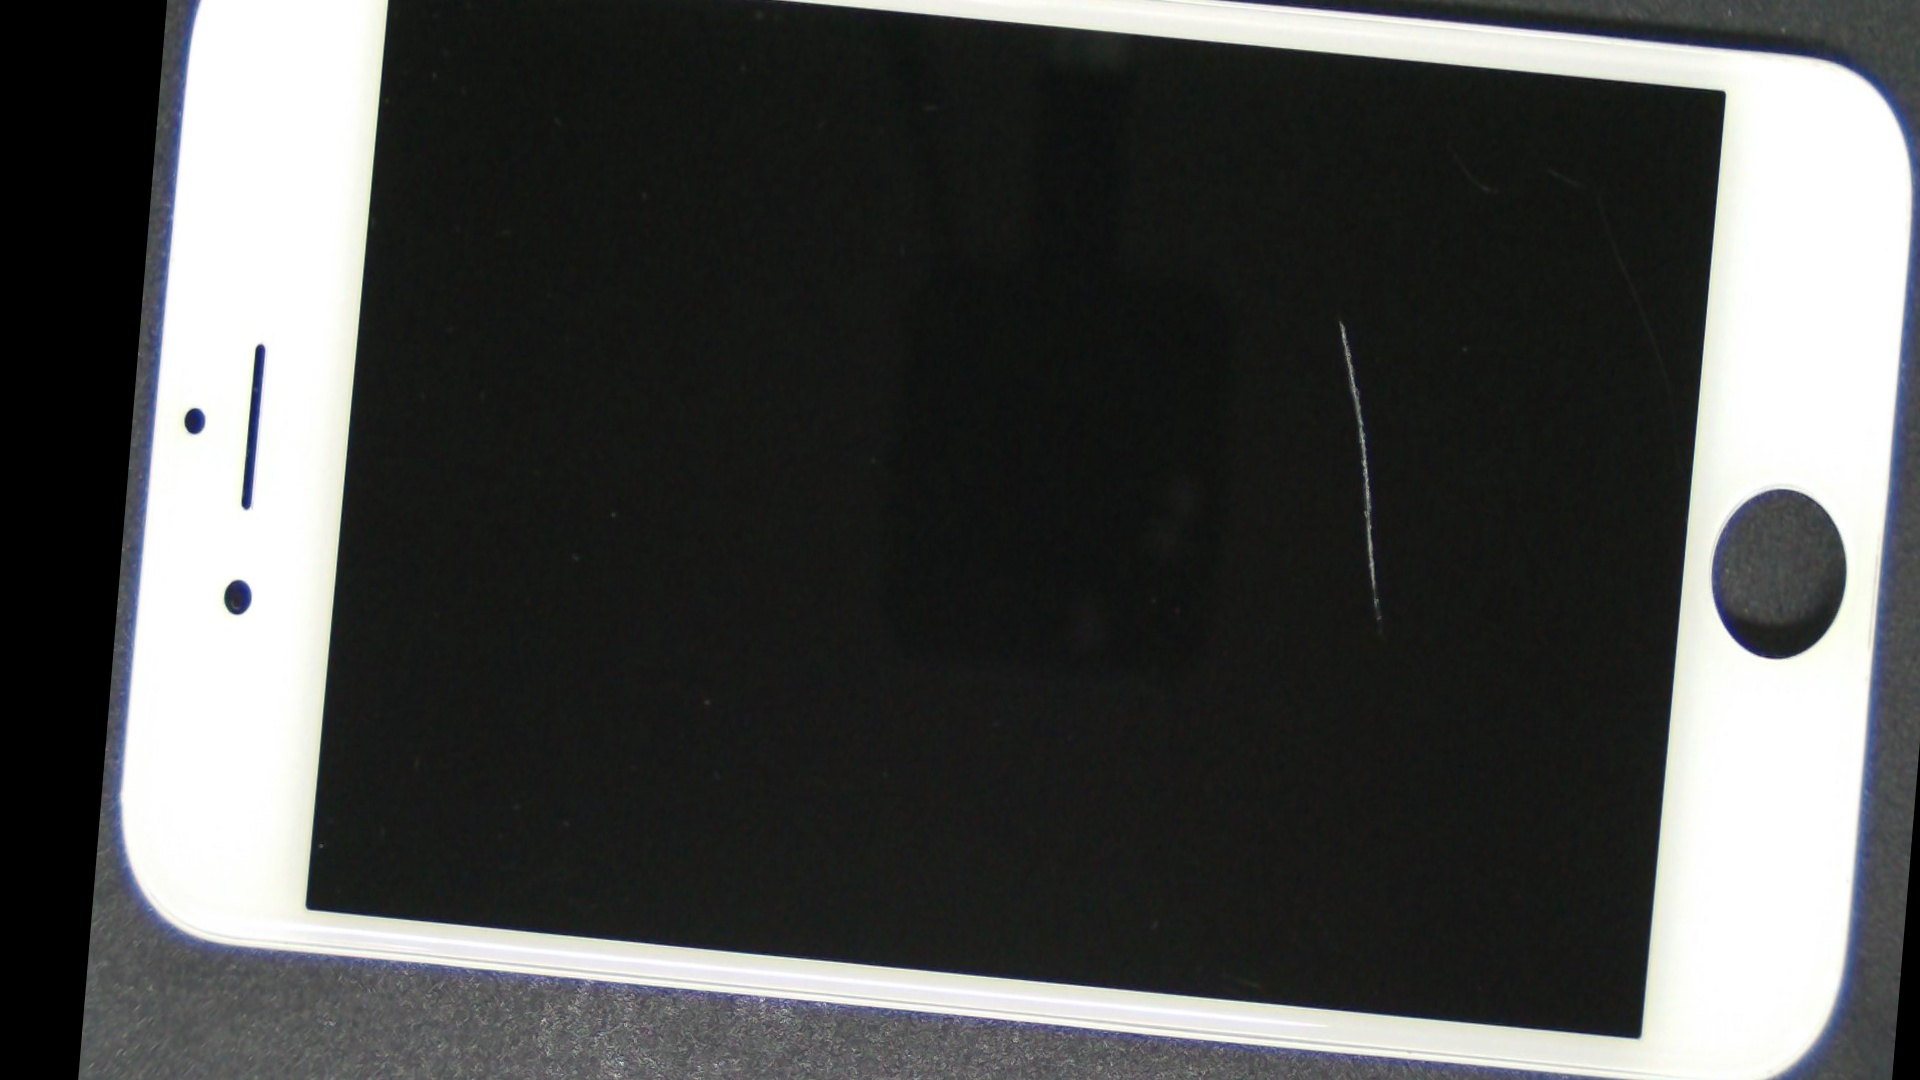oil: (728, 65, 1920, 571)
